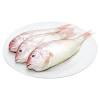Ikan Kerisi: (6, 31, 68, 63), (25, 41, 91, 71)
